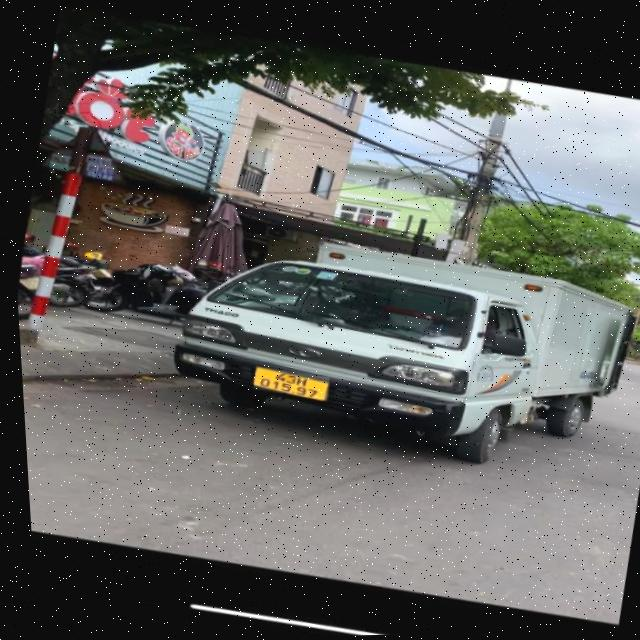car: (143, 199, 640, 505)
plate: (242, 355, 339, 413)
